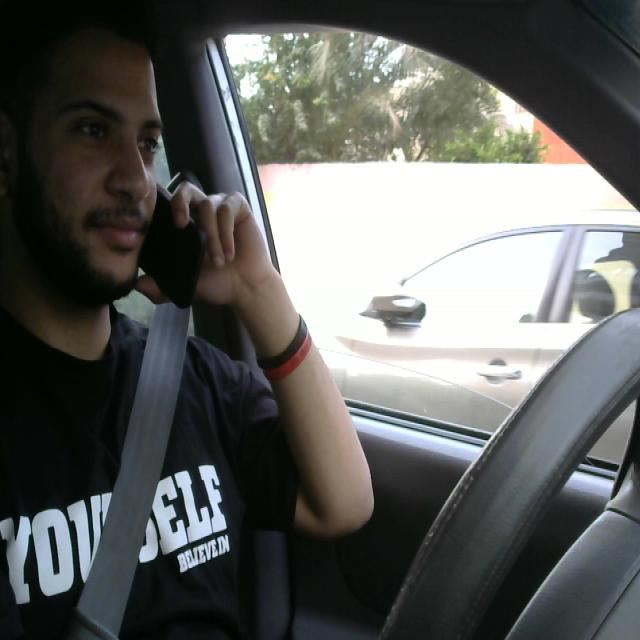mobile use: (114, 167, 209, 315)
